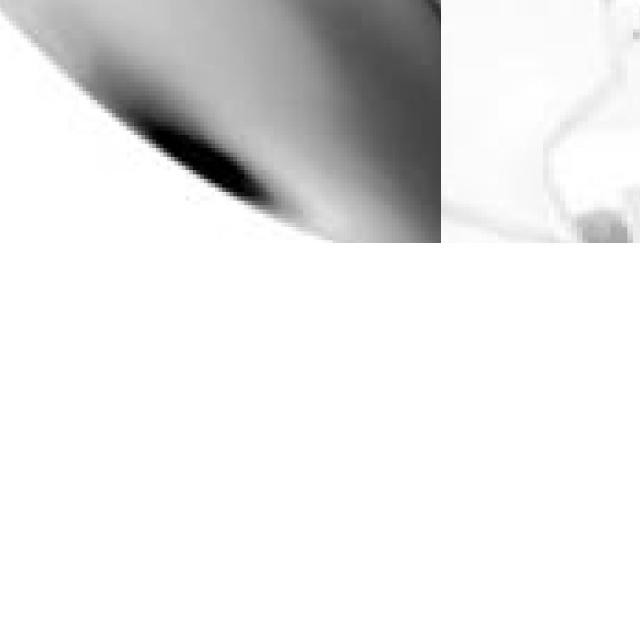forks: (523, 90, 640, 243)
spoons: (0, 0, 441, 243)
